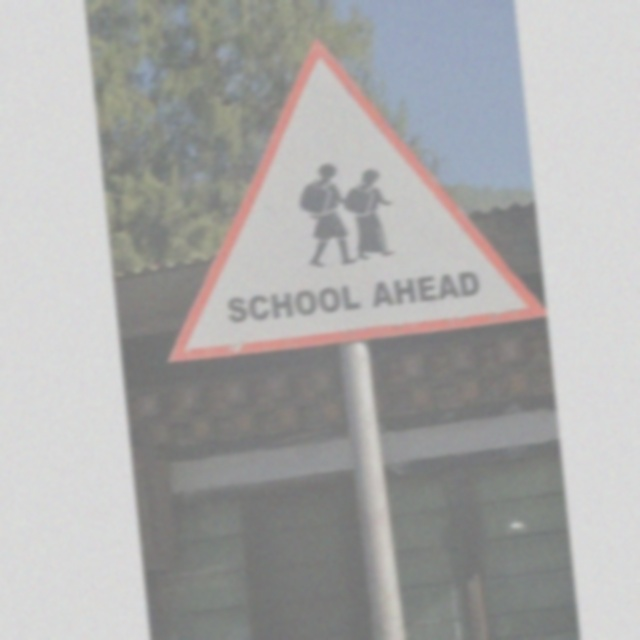School_Ahead: (151, 31, 527, 370)
